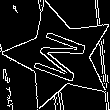M_E: (26, 25, 93, 87)
